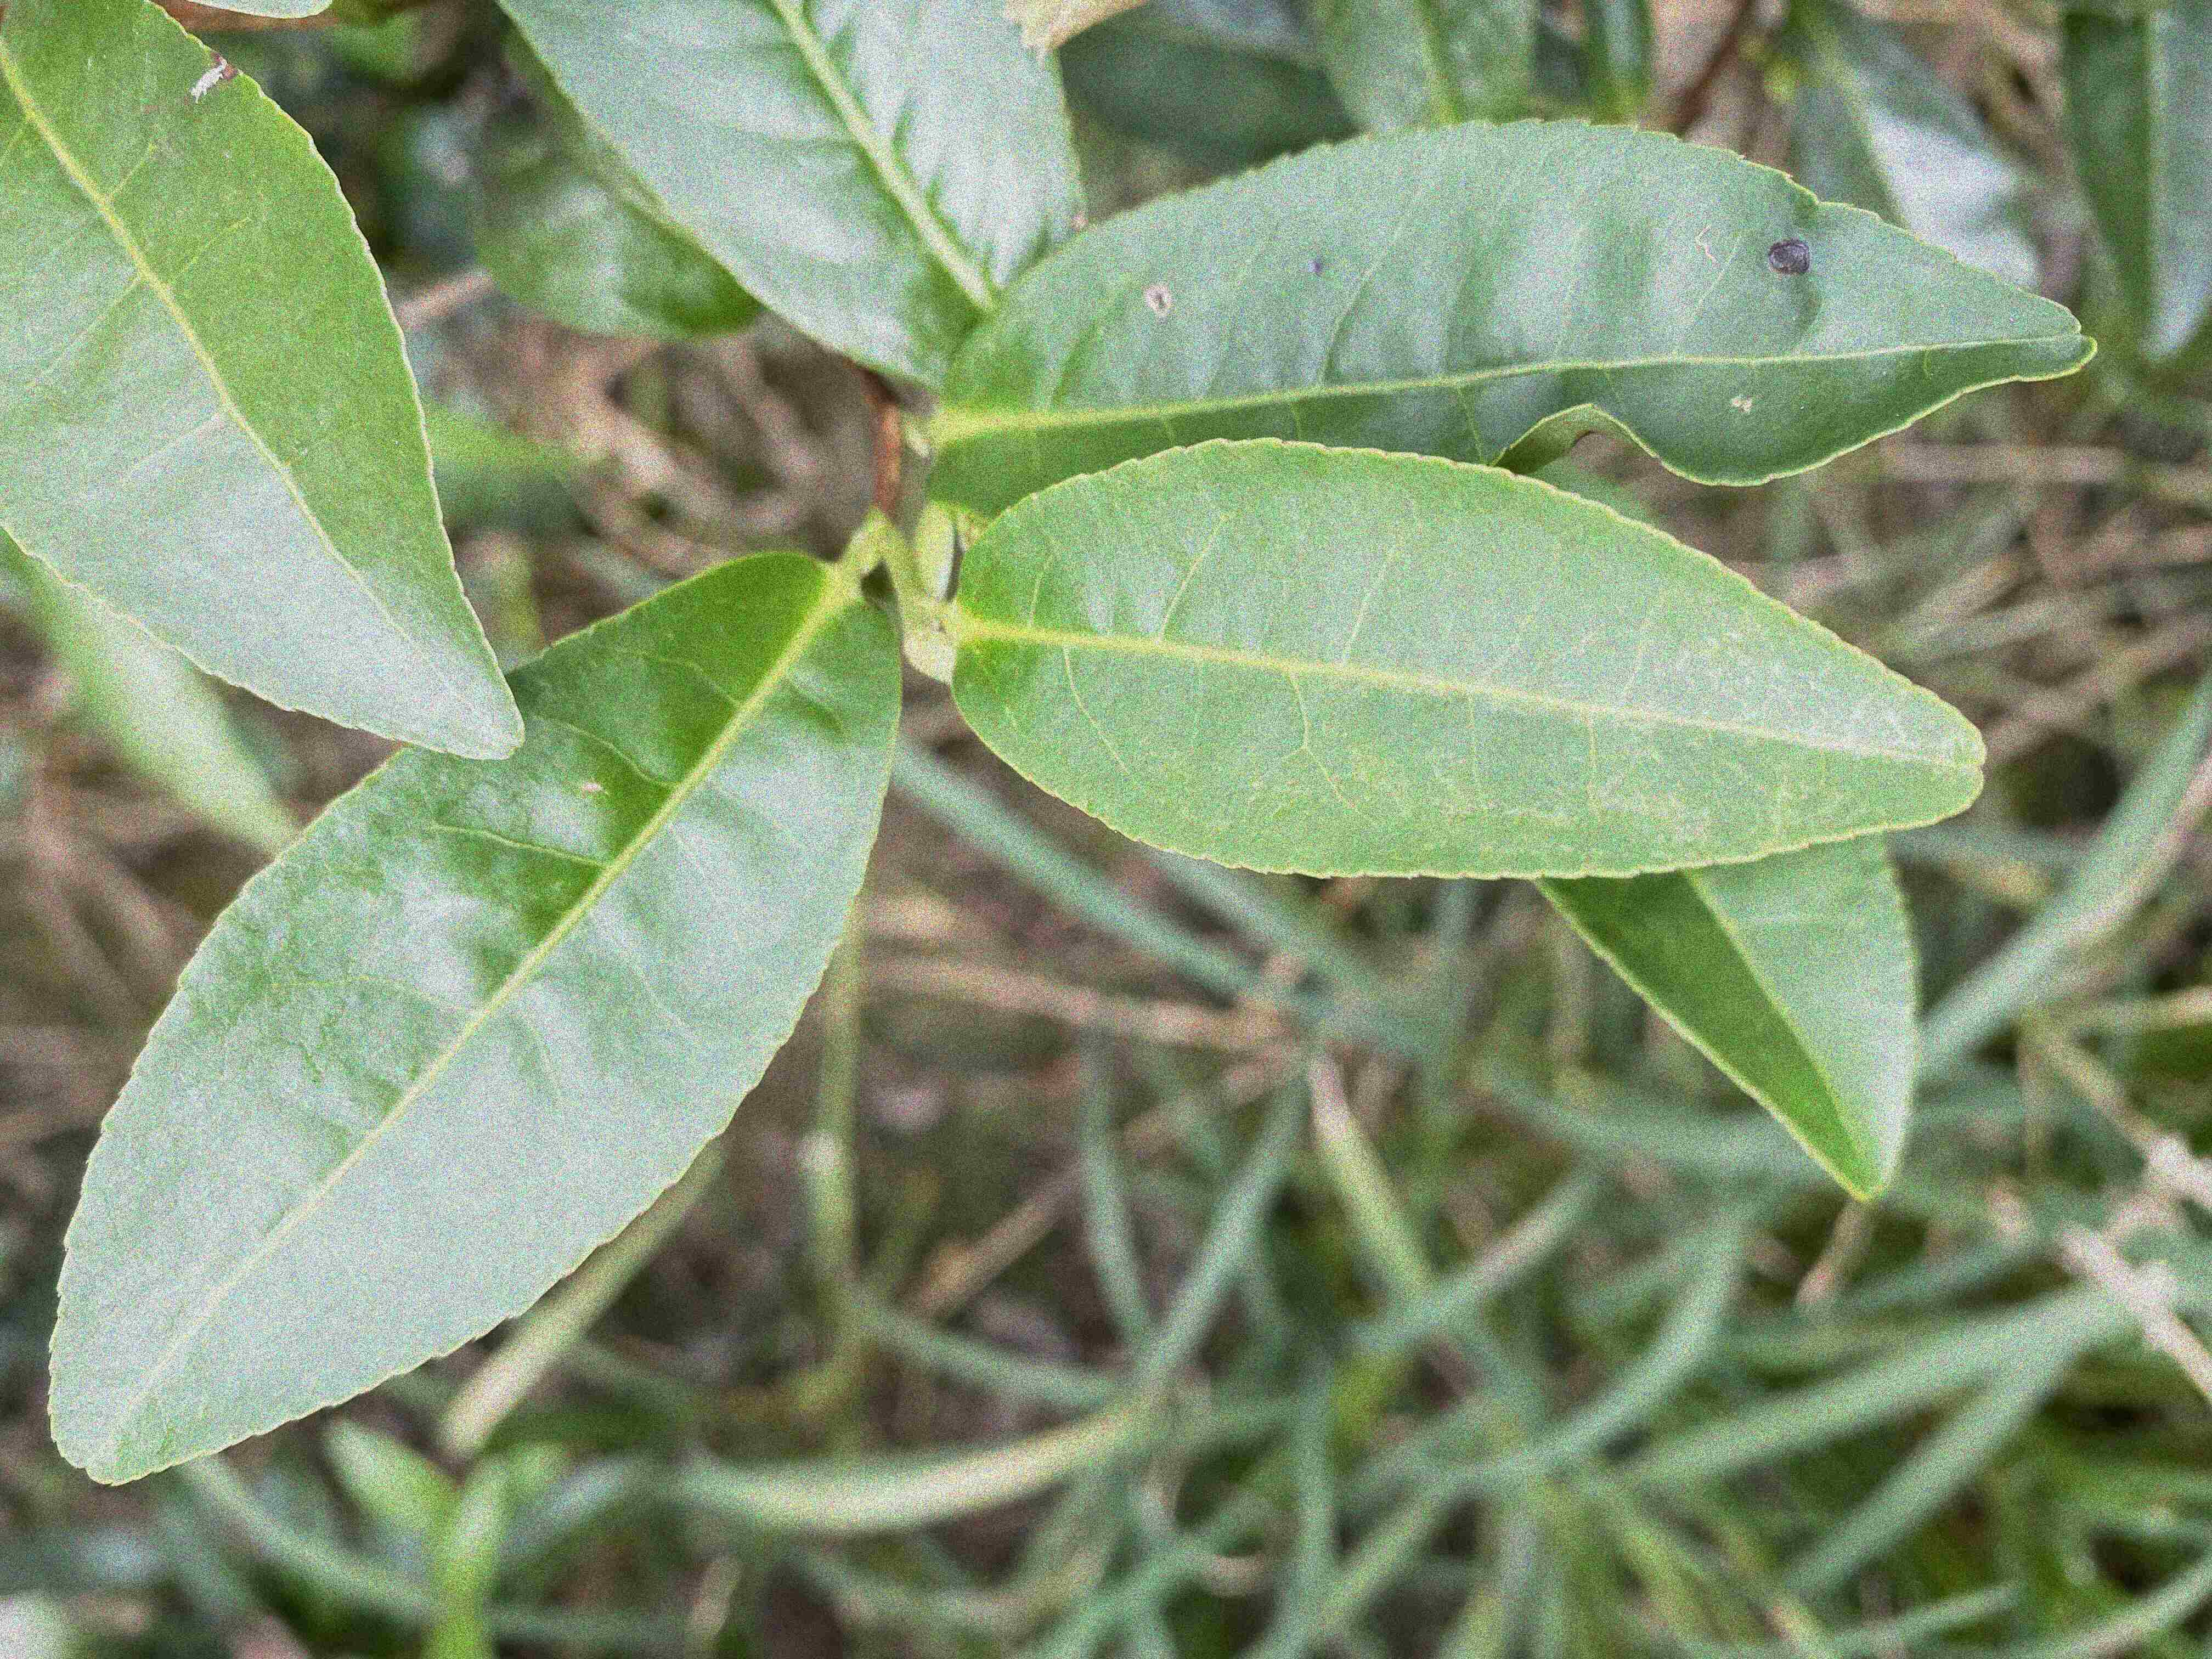healthy: (44, 556, 906, 1488), (948, 432, 1987, 884)
tanju_low: (930, 115, 2099, 523), (3, 2, 524, 762)
